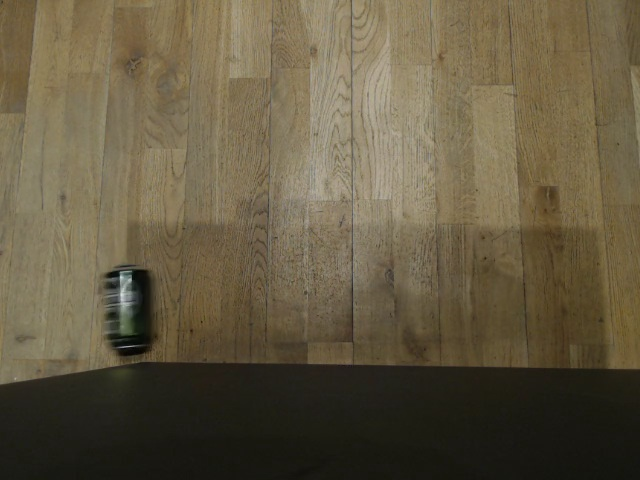beer: (96, 264, 157, 353)
